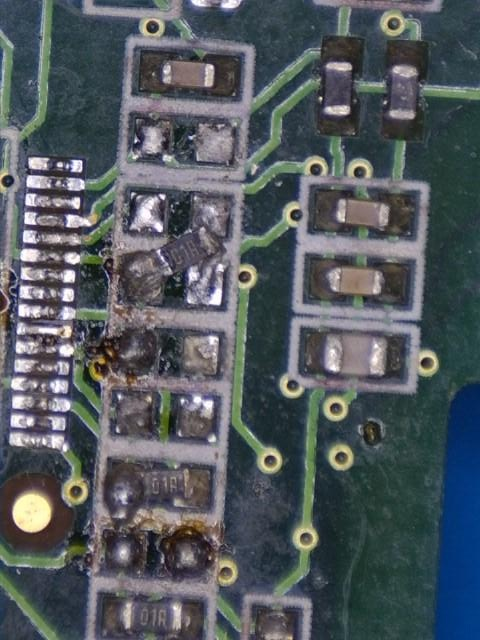pcb_defect: (119, 225, 226, 306), (103, 459, 212, 521), (186, 195, 230, 307)
